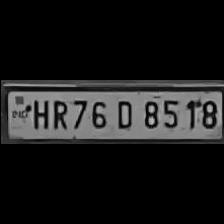1: (182, 97, 198, 131)
5: (159, 96, 181, 130)
6: (86, 98, 108, 130)
7: (68, 96, 86, 130)
8: (138, 96, 160, 130), (197, 96, 219, 130)
D: (110, 97, 136, 128)
H: (28, 96, 48, 130)
R: (48, 96, 68, 130)
